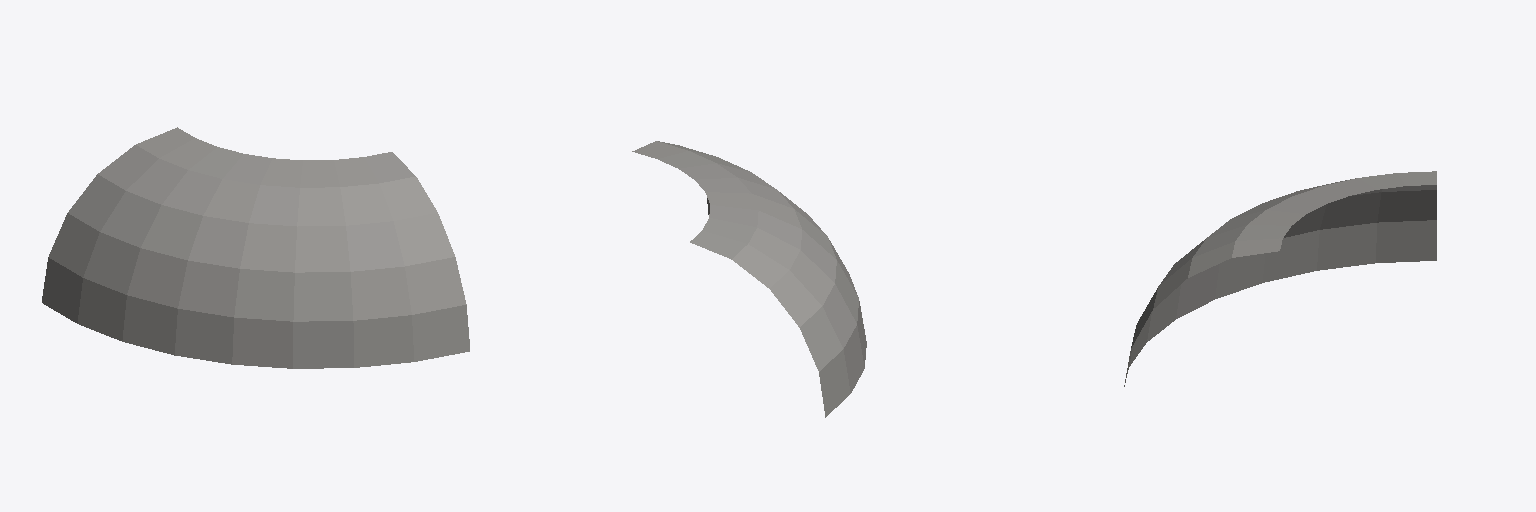
Rendered from Cave_Terrain_Corner_Inner_2x2_Top.obj.
The picture shows the model from 3 angles: view 1: azimuth 30°, elevation 25°; view 2: azimuth 150°, elevation 25°; view 3: azimuth 270°, elevation 25°; orthographic projection.
Visible parts, largest first — view 1: object1; view 2: object1; view 3: object1.
Part boxes in pixels (left/top/right/bottom): object1: left=42, top=127, right=469, bottom=368; object1: left=632, top=141, right=866, bottom=417; object1: left=1124, top=171, right=1436, bottom=386.
Bounding box in the file's own units: 2 × 1 × 2.